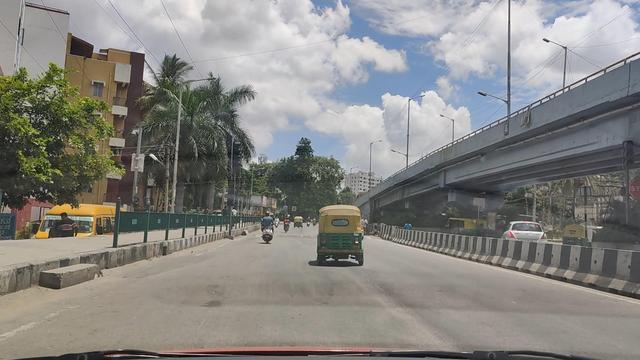LMV: (313, 203, 367, 271)
RoadDamages: (383, 292, 449, 342)
